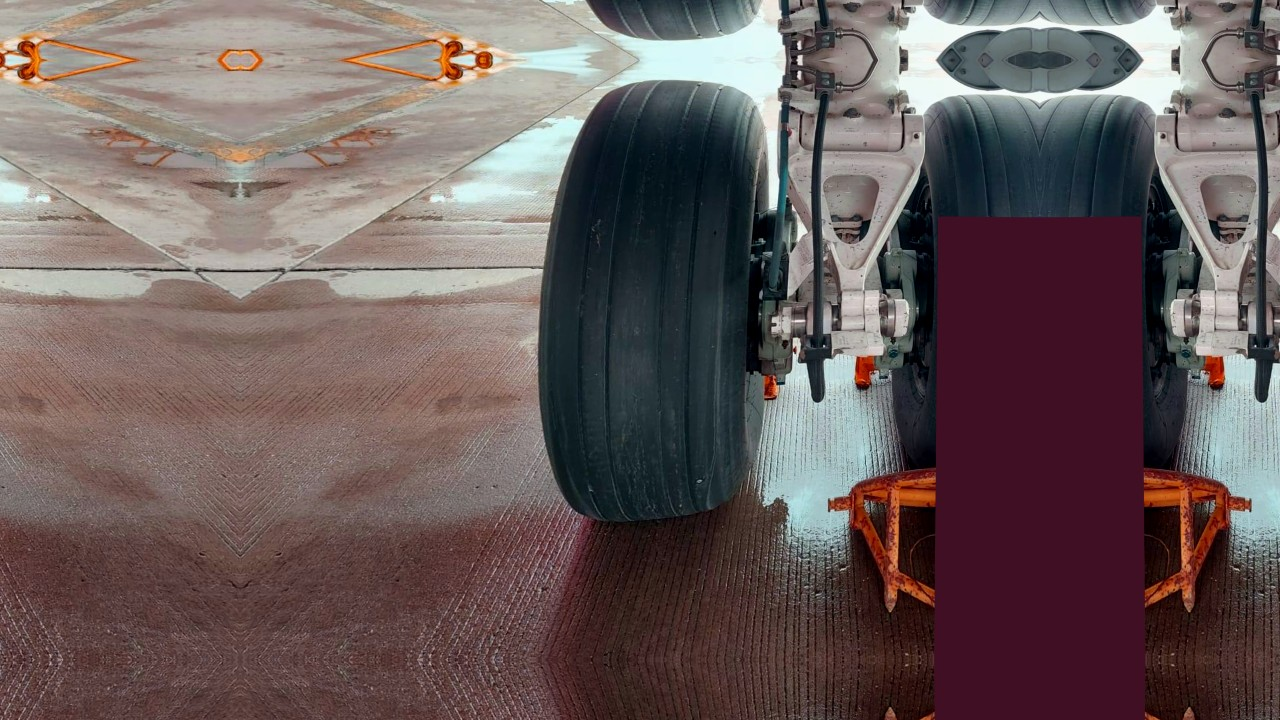chock: (817, 448, 1040, 660), (1040, 448, 1263, 660), (817, 660, 1040, 720), (1040, 660, 1263, 720)
wheel: (502, 69, 784, 546), (893, 88, 1040, 469), (1040, 88, 1187, 469), (502, 0, 784, 51)
